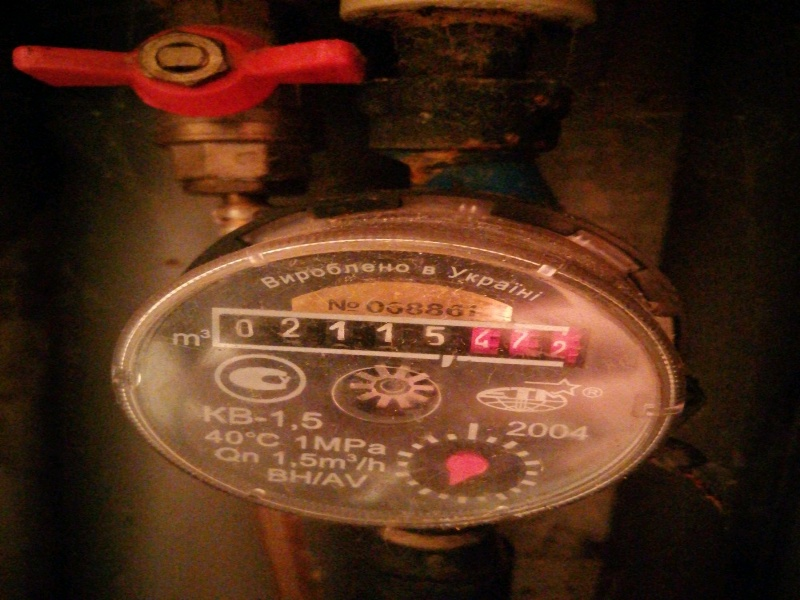meter: (215, 311, 585, 372)
